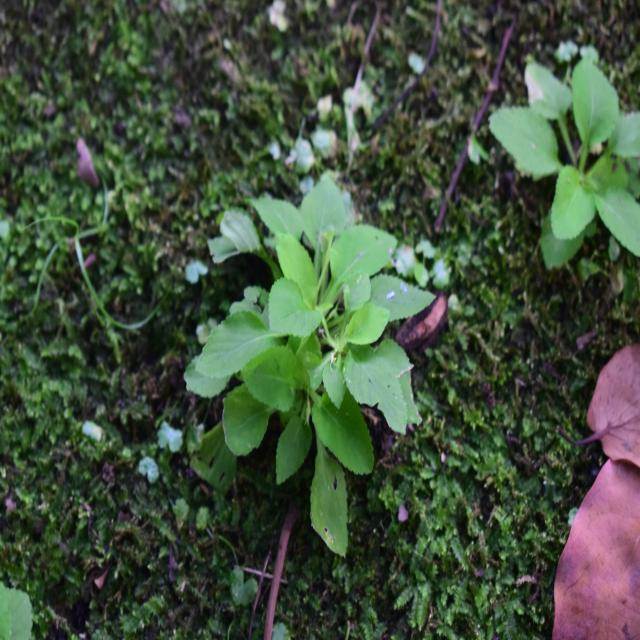Viola: (206, 147, 430, 548)
